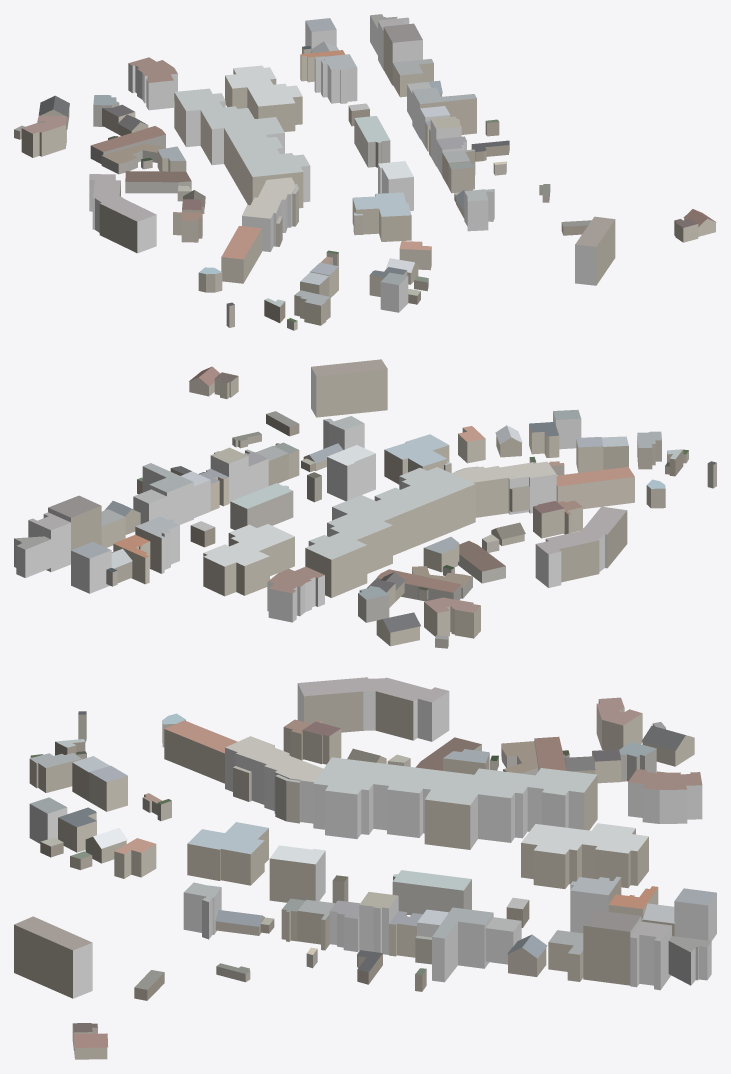
3 views of the same model, one above another, from view 1: azimuth 30°, elevation 25°; view 2: azimuth 150°, elevation 25°; view 3: azimuth 270°, elevation 25° (orthographic). The views are drawn at different scales.
Visible parts, largest first — view 1: tuile; view 2: tuile; view 3: tuile.
Boxes of the visible parts, x1=… form: tuile: x1=14, y1=14, x2=716, y2=330; tuile: x1=14, y1=359, x2=716, y2=648; tuile: x1=14, y1=677, x2=716, y2=1059.
Bounding box in the file's own units: 261 × 34.55 × 256.
